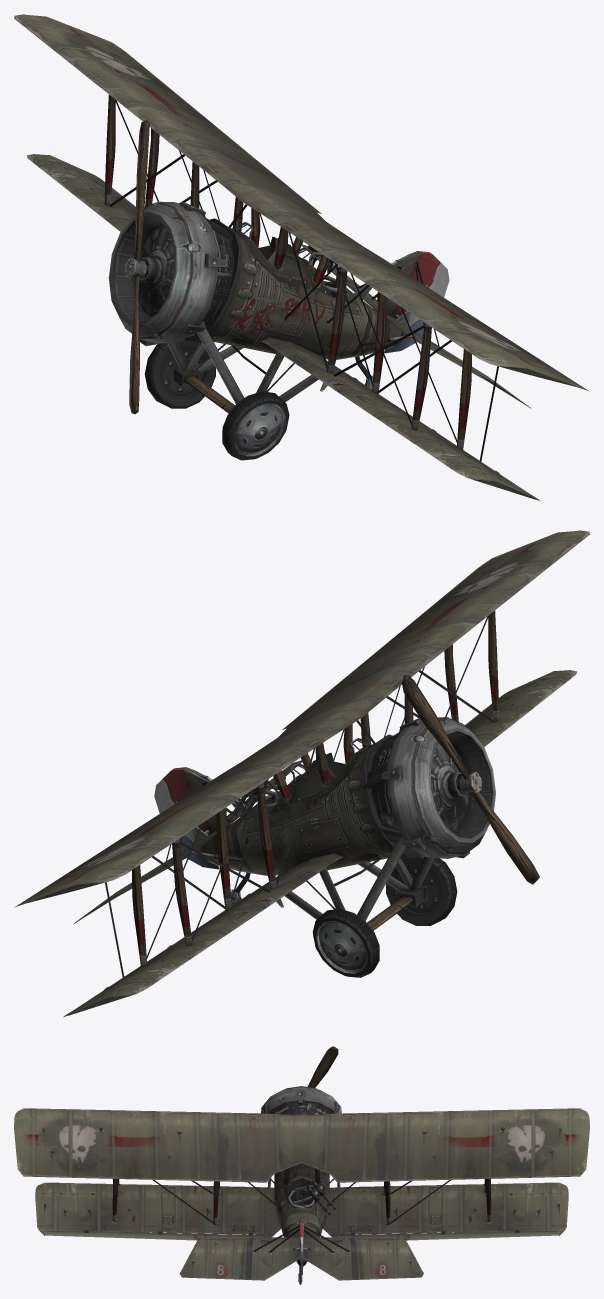
Rendered from Fat Bird  - Salmson 2 A2.fbx.
3 views of the same model, one above another, from view 1: azimuth 30°, elevation 25°; view 2: azimuth 150°, elevation 25°; view 3: azimuth 270°, elevation 25° (orthographic). The views are drawn at different scales.
Visible parts, largest first — view 1: PLANE; view 2: PLANE; view 3: PLANE.
Part boxes in pixels (box(x1,y1,x2,y2)): PLANE: box(14, 14, 589, 501); PLANE: box(14, 530, 589, 1017); PLANE: box(14, 1046, 589, 1284).
Size of the model in its own units: 132 by 110 by 314.
Materials: 1 (1 with a texture image).
